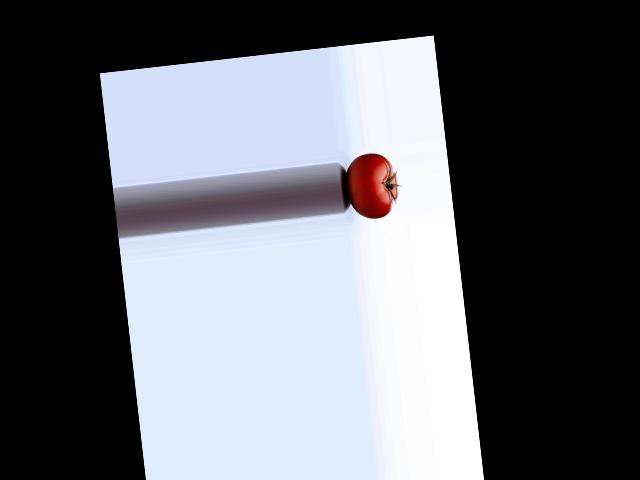tomato: (343, 150, 400, 221)
